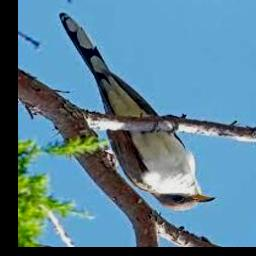Cuckoo: (58, 13, 213, 211)
